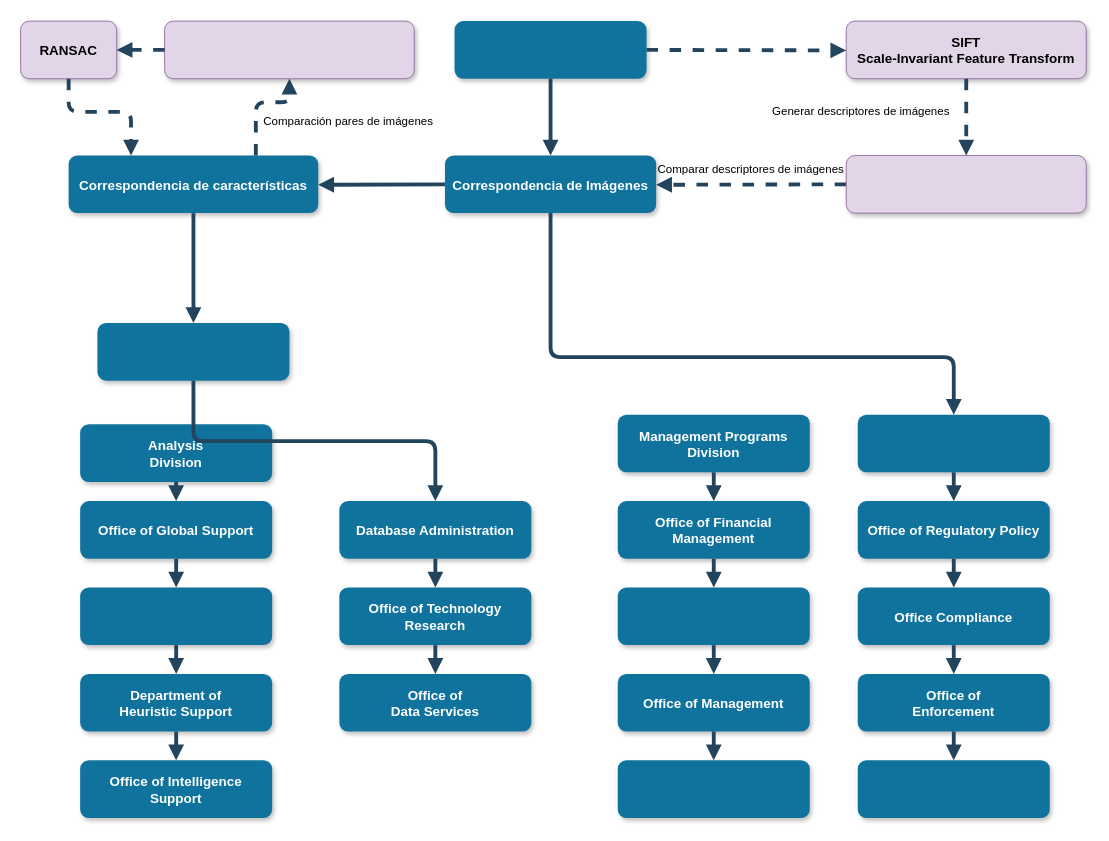
Image size: 1109x841. Some labels were removed from this diagram. The centre of each missing label's shape, as x and y in pixels:
Aproximate Nearest Neighbor: point (290, 50)
Creación de estructura: point (194, 353)
Extracción de Características: point (551, 51)
Office of Backtrack Analysis: point (176, 617)
Office of Human Resources: point (714, 617)
Office of Regulatory Support: point (954, 790)
Office of Training Services: point (714, 790)
Regulatory and Enforcement Division: point (954, 444)
Vocabulary Tree Approach: point (966, 185)
